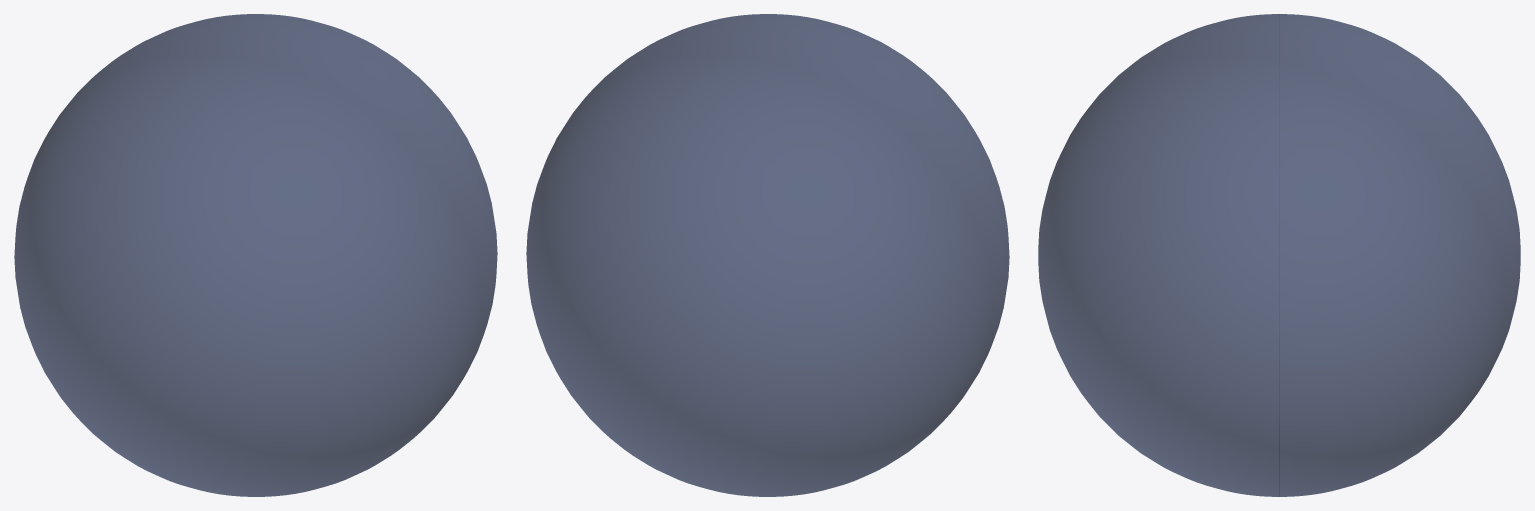
File: 金属球.gltf
3 renders of one model, left to right at view 1: azimuth 30°, elevation 25°; view 2: azimuth 150°, elevation 25°; view 3: azimuth 270°, elevation 25°, orthographic.
Visible parts, largest first — view 1: 金属-测试; view 2: 金属-测试; view 3: 金属-测试.
Boxes of the visible parts, x1,y1,x2,y2 form: 金属-测试: [14, 14, 497, 496]; 金属-测试: [526, 14, 1009, 496]; 金属-测试: [1038, 14, 1520, 496].
Bounding box in the file's own units: 2 × 2 × 2.
